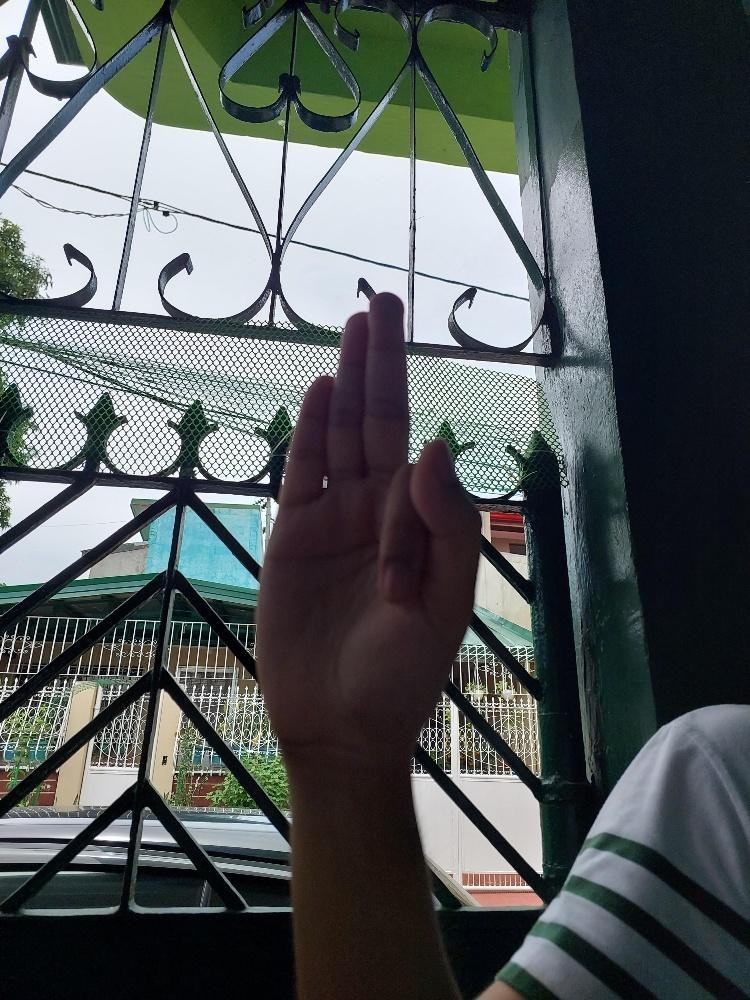f: (251, 285, 484, 770)
